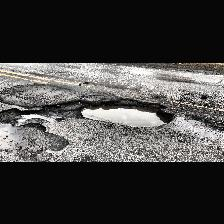pothole: (78, 96, 174, 127), (0, 106, 44, 126)
